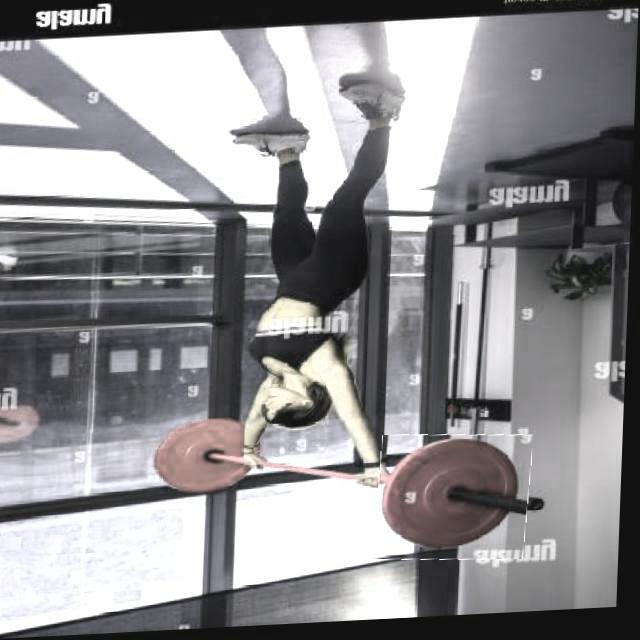barbell: (377, 435, 535, 570)
